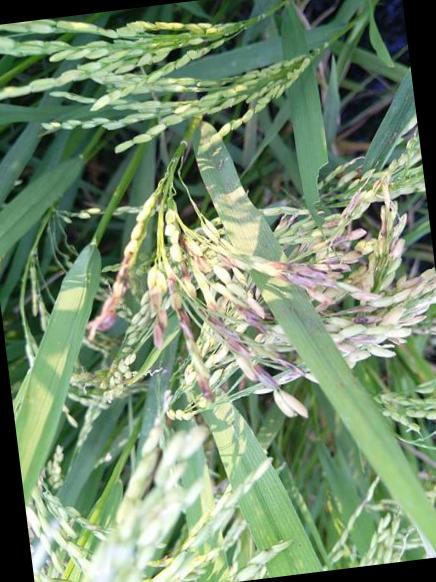Panicle Blight: (202, 285, 276, 388), (167, 278, 210, 401), (86, 250, 132, 340), (324, 299, 386, 344), (176, 225, 215, 281), (377, 200, 406, 271), (146, 262, 168, 348), (321, 221, 368, 255), (267, 262, 328, 288), (235, 303, 263, 333), (273, 353, 305, 375), (415, 304, 436, 335), (221, 259, 235, 272), (325, 218, 336, 229)
